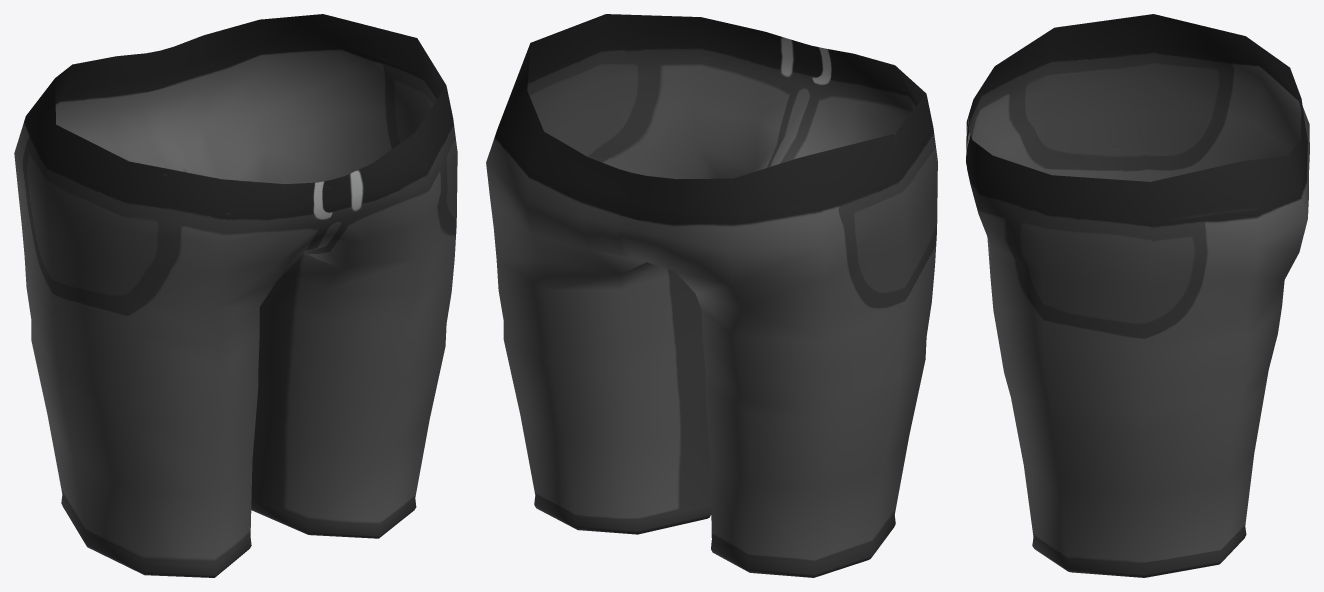
Rendered from jean.glb.
The picture shows the model from 3 angles, left to right: view 1: azimuth 30°, elevation 25°; view 2: azimuth 150°, elevation 25°; view 3: azimuth 270°, elevation 25°; orthographic projection. The views are drawn at different scales.
Parts seen in each view (by area): view 1: pantalones.001; view 2: pantalones.001; view 3: pantalones.001.
Boxes of the visible parts, box(x1,y1,x2,y2) form: pantalones.001: box(14, 14, 457, 577); pantalones.001: box(486, 14, 937, 577); pantalones.001: box(966, 14, 1309, 577).
Size of the model in its own units: 0.4896 by 0.5358 by 0.4026.
Materials: 1 (1 with a texture image).
